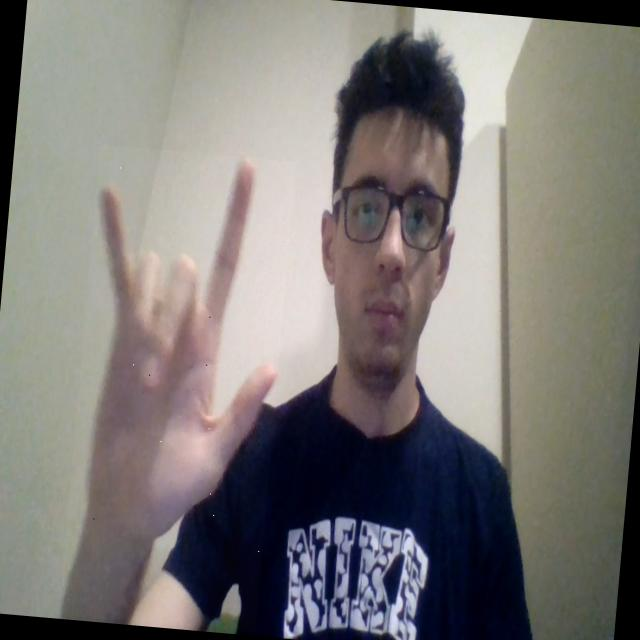iloveyou: (58, 145, 296, 632)
